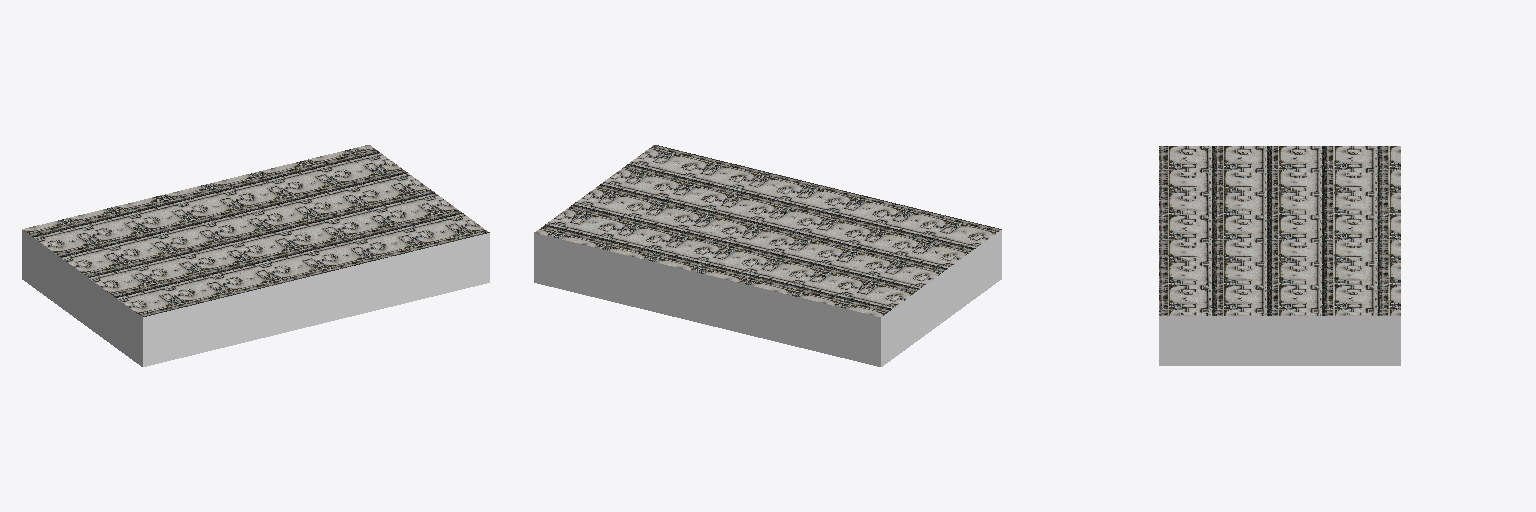
3 views of the same model, side by side, from view 1: azimuth 30°, elevation 25°; view 2: azimuth 150°, elevation 25°; view 3: azimuth 270°, elevation 25° (orthographic).
Parts seen in each view (by area): view 1: Building_21.[number redacted]_13.[number redacted]; view 2: Building_21.[number redacted]_13.[number redacted]; view 3: Building_21.[number redacted]_13.[number redacted].
Boxes of the visible parts, <box> form: Building_21.[number redacted]_13.[number redacted]: <box>22,145,489,366</box>; Building_21.[number redacted]_13.[number redacted]: <box>534,145,1001,366</box>; Building_21.[number redacted]_13.[number redacted]: <box>1159,146,1400,365</box>.
Size of the model in its own units: 21.79 by 3 by 13.1.
2 materials, 1 textured.